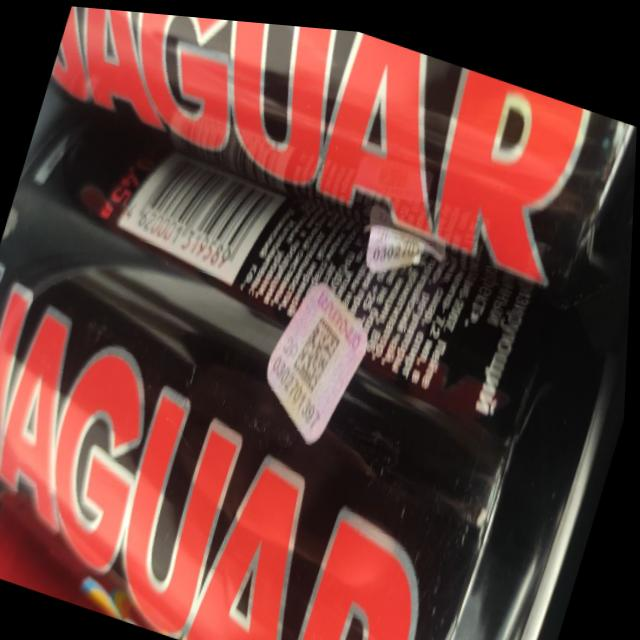datamatrix: (290, 306, 348, 391)
